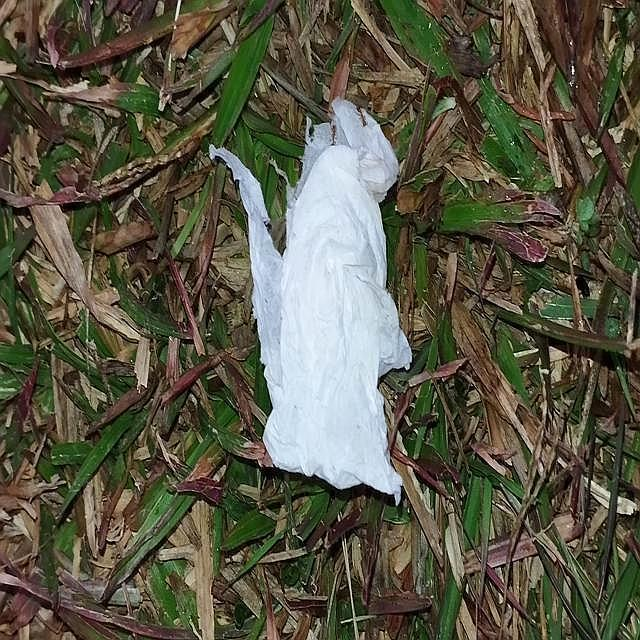Biodegradable: (261, 109, 397, 497)
